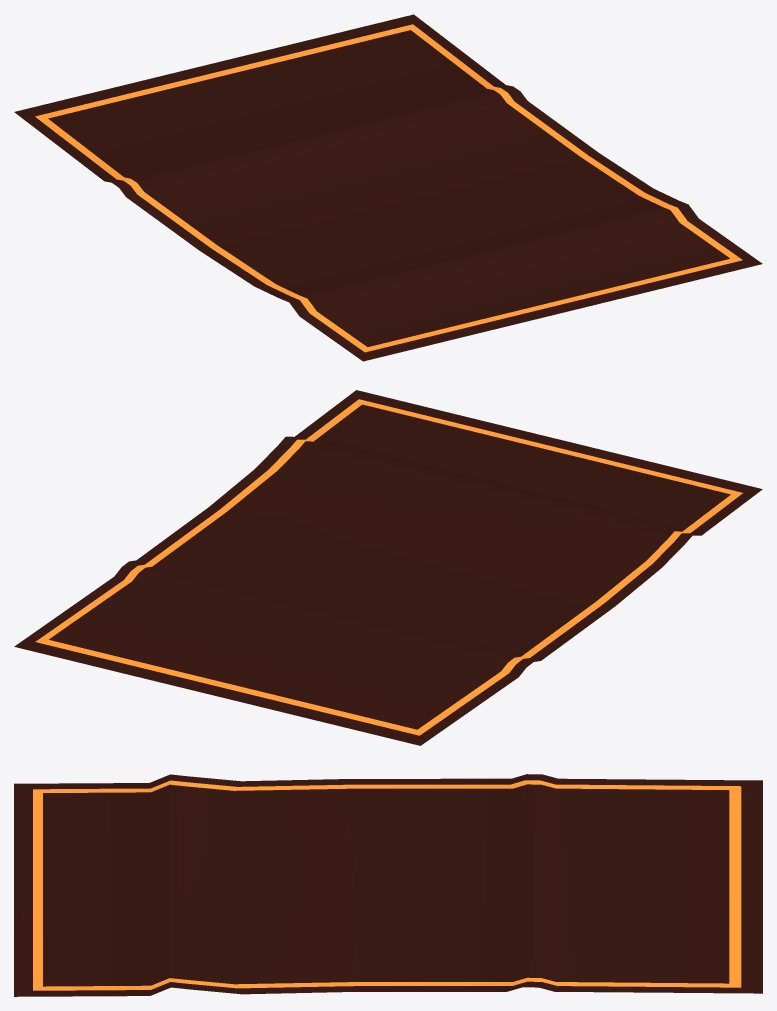
File: Carpet_1.glb
3 renders of one model, top to bottom at view 1: azimuth 30°, elevation 25°; view 2: azimuth 150°, elevation 25°; view 3: azimuth 270°, elevation 25°, orthographic. The views are drawn at different scales.
Parts seen in each view (by area): view 1: Carpet_1; view 2: Carpet_1; view 3: Carpet_1.
Boxes of the visible parts, left/top/right/bottom form: Carpet_1: left=14, top=14, right=762, bottom=361; Carpet_1: left=14, top=390, right=762, bottom=745; Carpet_1: left=14, top=774, right=762, bottom=996.
Size of the model in its own units: 213 by 3.67 by 309.
